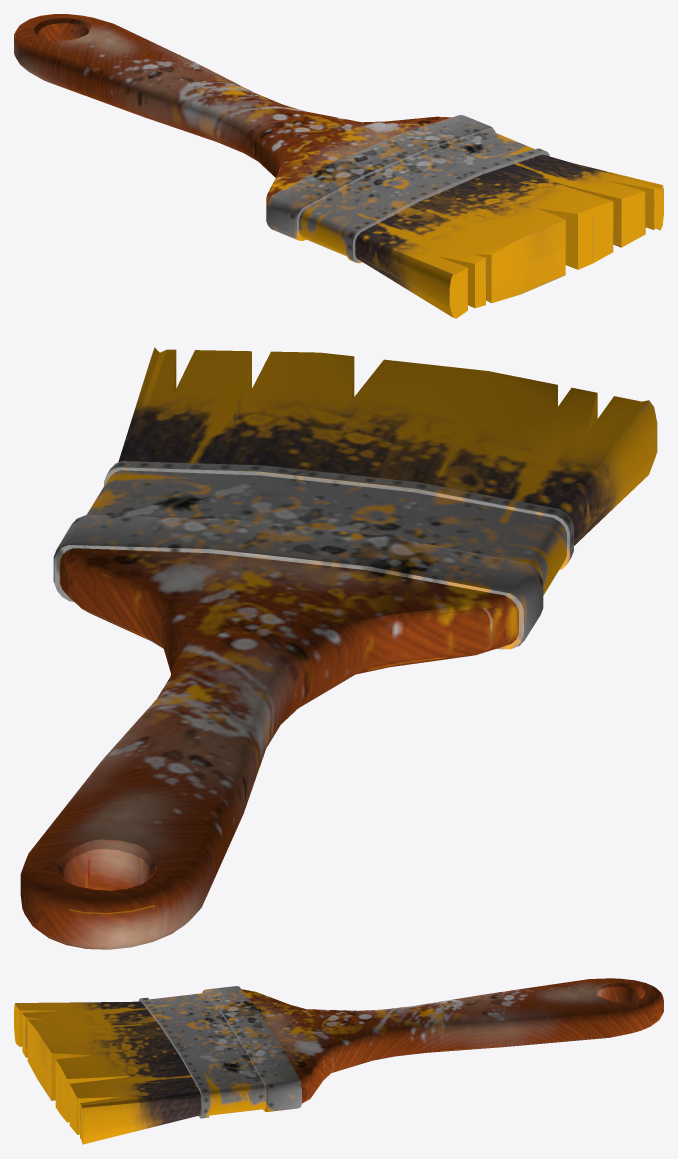
The model's file is paint_brush.obj.
The picture shows the model from 3 angles, top to bottom: view 1: azimuth 30°, elevation 25°; view 2: azimuth 150°, elevation 25°; view 3: azimuth 270°, elevation 25°; orthographic projection. The views are drawn at different scales.
Parts seen in each view (by area): view 1: obj1.014; view 2: obj1.014; view 3: obj1.014.
Boxes of the visible parts, <box> form: obj1.014: <box>14,14,663,318</box>; obj1.014: <box>20,347,657,949</box>; obj1.014: <box>14,978,663,1144</box>.
Size of the model in its own units: 2.72 by 0.441 by 5.42.
1 material, 1 textured.
